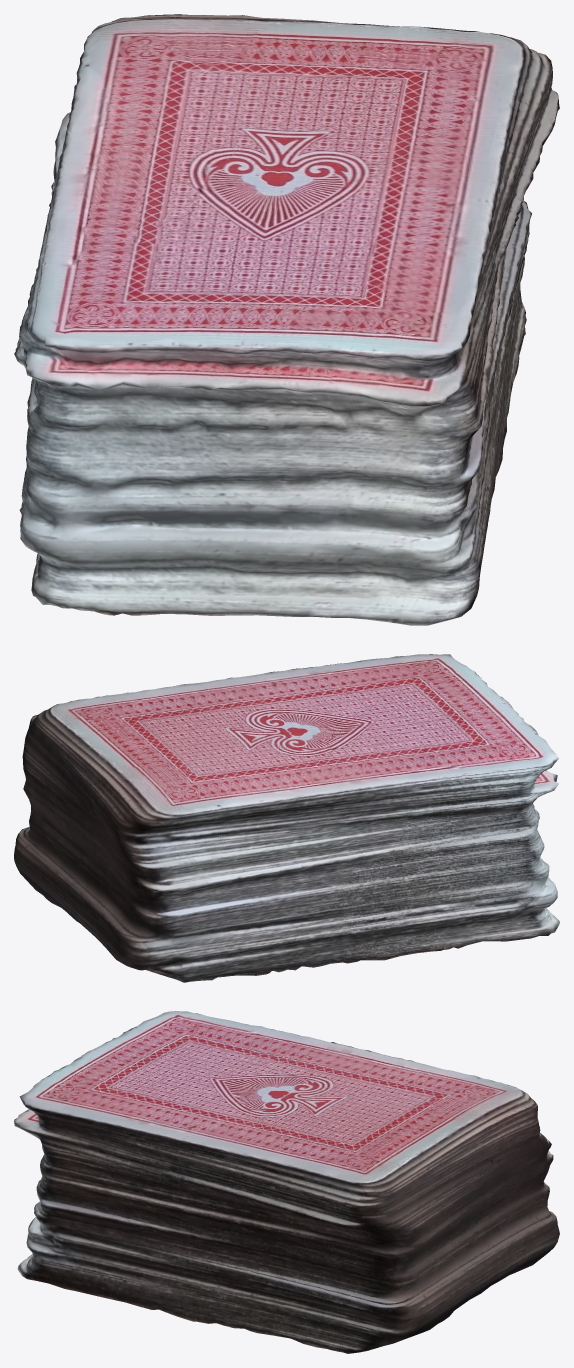
File: stack_of_cards.glb
3 views of the same model, one above another, from view 1: azimuth 30°, elevation 25°; view 2: azimuth 150°, elevation 25°; view 3: azimuth 270°, elevation 25° (orthographic). The views are drawn at different scales.
Visible parts, largest first — view 1: Object_4; view 2: Object_4; view 3: Object_4.
Part boxes in pixels (x1=…): Object_4: x1=14, y1=14, x2=559, y2=625; Object_4: x1=14, y1=654, x2=559, y2=982; Object_4: x1=14, y1=1011, x2=559, y2=1353.
Size of the model in its own units: 0.4067 by 0.1855 by 0.4489.
1 material, 1 textured.
